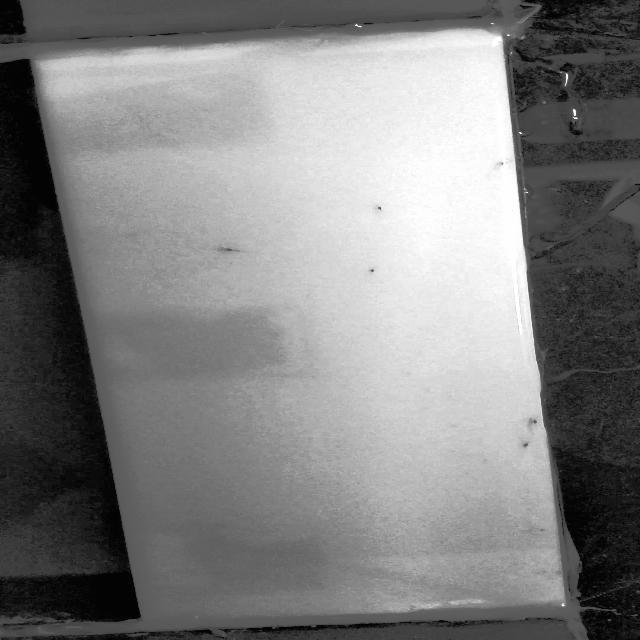shrimp: (374, 202, 396, 215), (362, 266, 386, 276), (221, 248, 254, 255), (525, 414, 541, 424), (519, 442, 535, 450), (534, 526, 553, 532)
